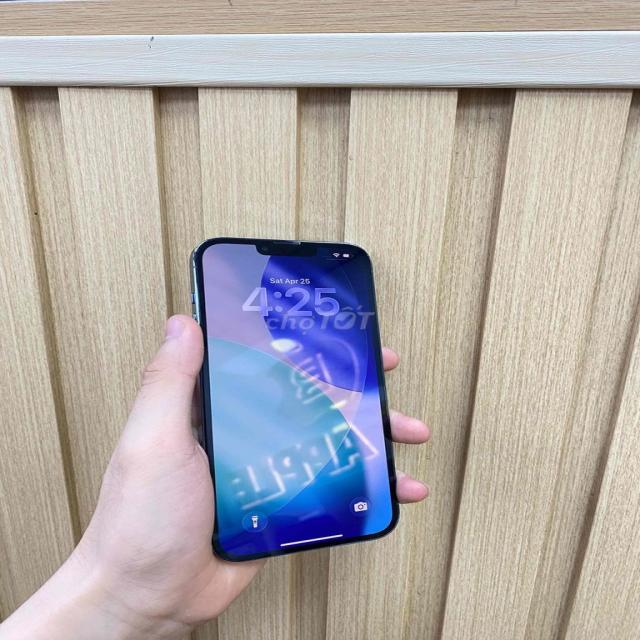gen_12_13: (188, 233, 408, 564)
